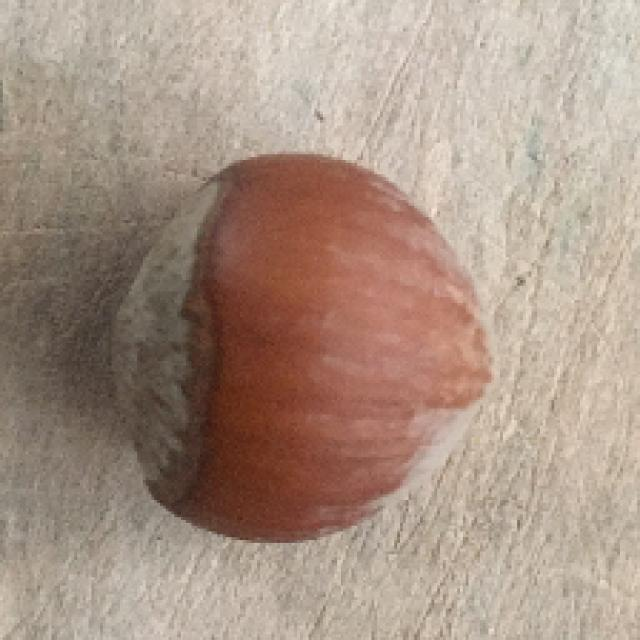qualityHazelnut: (99, 147, 493, 546)
